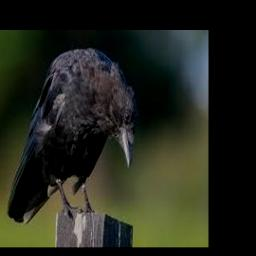Crow: (7, 48, 137, 225)
